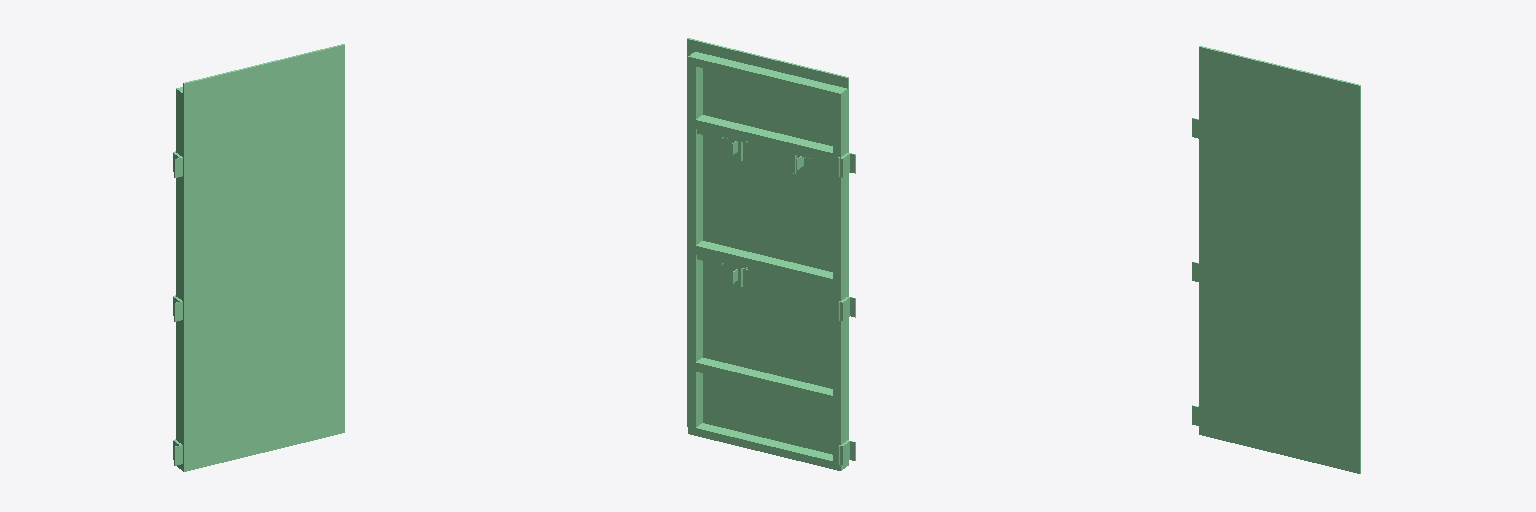
The model's file is door_01.obj.
The picture shows the model from 3 angles: view 1: azimuth 30°, elevation 25°; view 2: azimuth 150°, elevation 25°; view 3: azimuth 330°, elevation 25°; orthographic projection.
Visible parts, largest first — view 1: Door01; view 2: Door01; view 3: Door01.
Boxes of the visible parts, box(x1,y1,x2,y2) form: Door01: box(173, 44, 344, 471); Door01: box(687, 38, 855, 470); Door01: box(1192, 46, 1360, 473).
Size of the model in its own units: 1.11 by 2.43 by 0.1058.